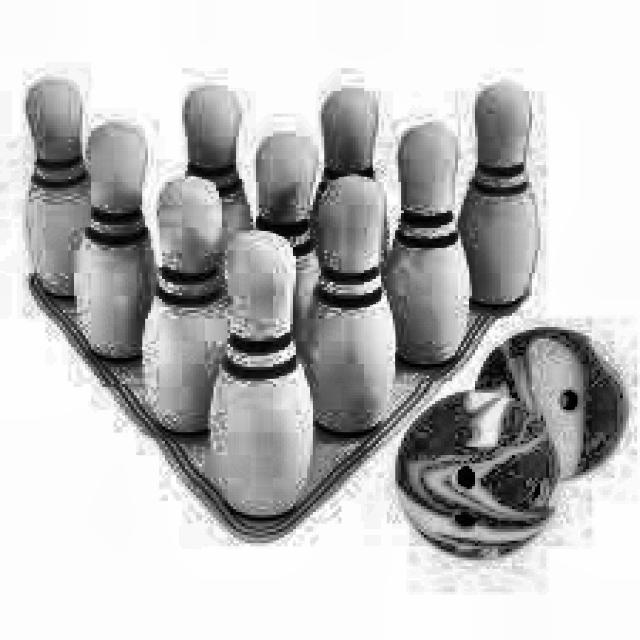bowling-ball: (398, 390, 563, 560), (492, 330, 629, 479)
bowling-pins: (208, 234, 316, 519), (303, 176, 398, 434), (142, 176, 228, 435), (383, 122, 472, 366), (74, 122, 159, 361), (461, 85, 540, 306), (26, 80, 91, 297), (256, 134, 321, 343), (179, 85, 253, 233), (324, 88, 378, 178)
